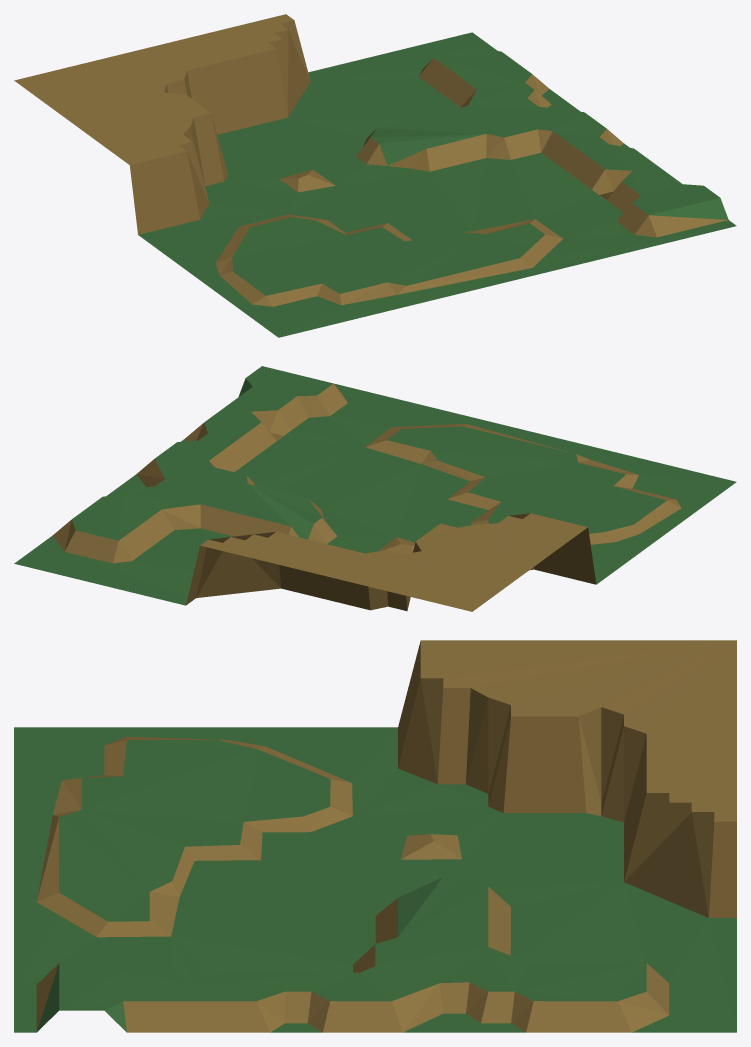
File: Terrain-col.glb
The picture shows the model from 3 angles, top to bottom: view 1: azimuth 30°, elevation 25°; view 2: azimuth 150°, elevation 25°; view 3: azimuth 270°, elevation 25°; orthographic projection. The views are drawn at different scales.
Parts seen in each view (by area): view 1: Plano; view 2: Plano; view 3: Plano.
Part boxes in pixels (<box>): Plano: <box>14,14,736,337</box>; Plano: <box>14,366,736,611</box>; Plano: <box>14,640,736,1032</box>.
Bounding box in the file's own units: 100 × 13.26 × 100.
